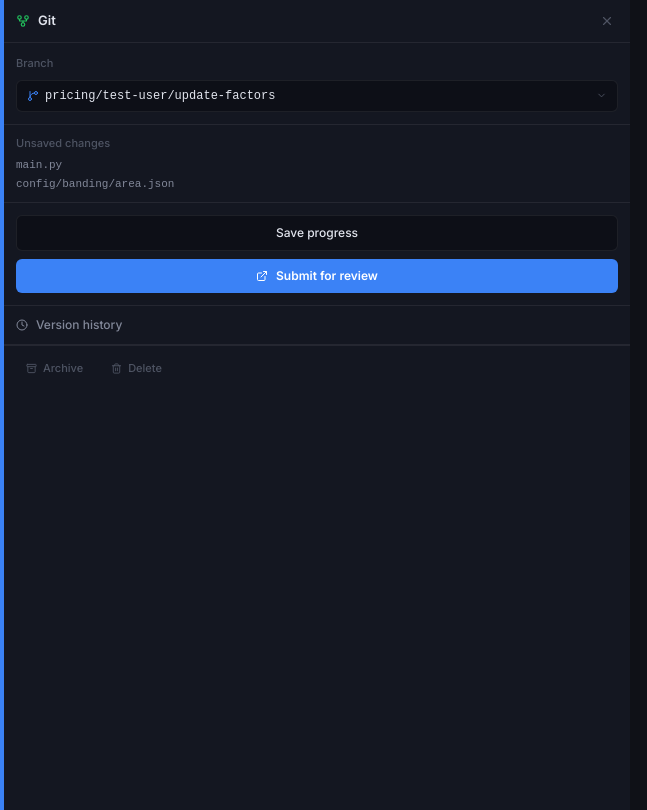
Test case: GitPanel › shows confirmation before archive
This screenshot has width=647, height=810.
Step 1. Click the button "Archive" → point(55, 368), box [16, 356, 93, 380]
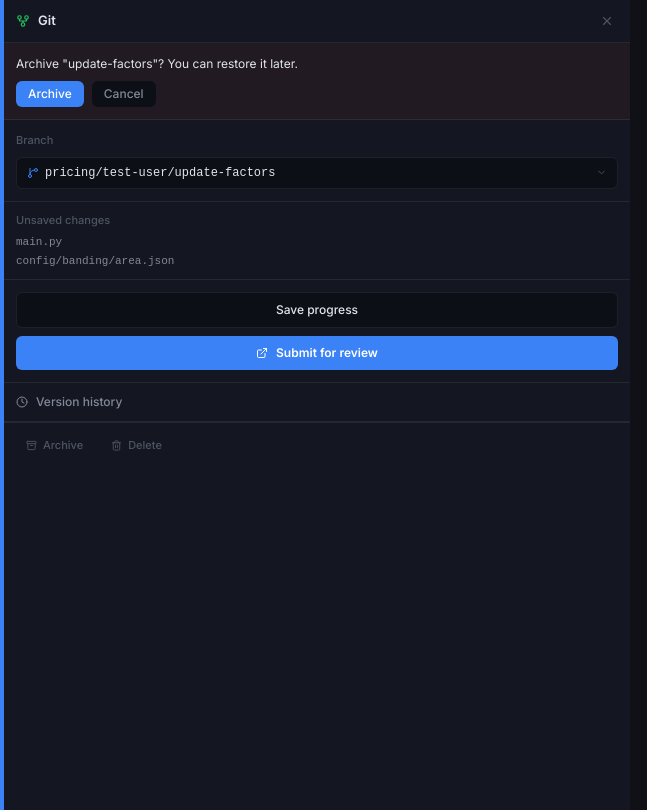
Check: the text "Archive \"update-factors\"? You can restore it later." is shown, box [16, 56, 298, 71]
